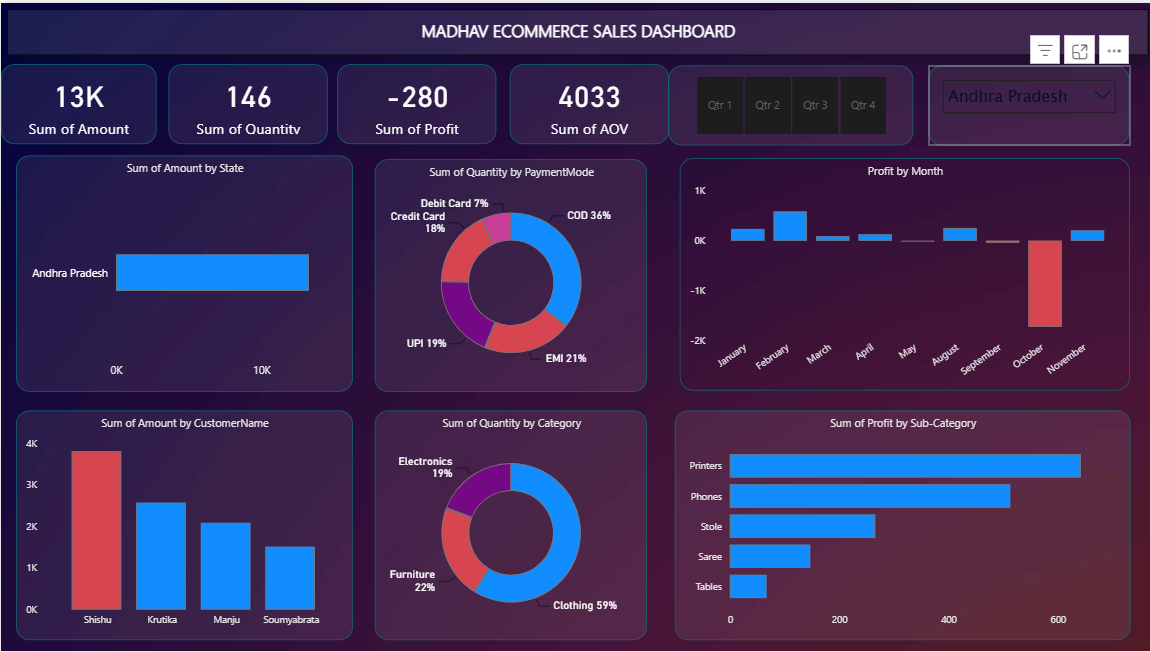

The page's visual inventory and layout, read from the dashboard file:
{"tool":"powerbi","page":{"name":"Page 1","canvas":[1280,720],"ordinal":0},"visuals":[{"type":"textbox","box":[7,7,1268,51],"z":0},{"type":"columnChart","title":"Profit by Month","fields":{"Category":["Orders.Order Date.Variation.Date Hierarchy.Month"],"Y":["Sum(Details.Profit)"]},"box":[754.3,172.8,500,258],"z":1000},{"type":"barChart","fields":{"Category":["Details.Sub-Category"],"Y":["Sum(Details.Profit)"]},"box":[748.1,453.1,506.2,255.6],"z":2000},{"type":"donutChart","fields":{"Category":["Details.Category"],"Y":["Sum(Details.Quantity)"]},"box":[414.9,452.7,302.7,255.4],"z":3000},{"type":"donutChart","fields":{"Y":["Sum(Details.Quantity)"],"Category":["Details.PaymentMode"]},"box":[414.9,173,302.7,258.1],"z":4000},{"type":"card","fields":{"Values":["Sum(Details.Amount)"]},"box":[0,68.6,172.9,88.6],"z":5000},{"type":"card","fields":{"Values":["Sum(Details.Quantity)"]},"box":[185.7,68.6,177.1,88.6],"z":6000},{"type":"card","fields":{"Values":["Sum(Details.Profit)"]},"box":[374.3,68.6,177.1,88.6],"z":7000},{"type":"card","fields":{"Values":["Sum(Details.AOV)"]},"box":[565.7,68.6,177.1,88.6],"z":8000},{"type":"barChart","fields":{"Category":["Orders.State"],"Y":["Sum(Details.Amount)"]},"box":[16.2,168.9,374.3,262.2],"z":9000},{"type":"columnChart","fields":{"Category":["Orders.CustomerName"],"Y":["Sum(Details.Amount)"]},"box":[16,453,374,255],"z":10000},{"type":"slicer","fields":{"Values":["Orders.Order Date.Variation.Date Hierarchy.Quarter"]},"box":[742,69.1,271.6,88.9],"z":10001},{"type":"slicer","fields":{"Values":["Orders.State"]},"box":[1030.9,69.1,223.5,88.9],"z":10002}]}

Visuals, with their boxes in screenshot pixels (x1, y1, x2, y2), scaled from the page's 1280x720 canvas onto the 1150x652 screenshot:
textbox: bbox=(6, 6, 1146, 53)
"Profit by Month" columnChart: bbox=(678, 156, 1127, 390)
barChart - Details.Sub-Category x Sum(Details.Profit): bbox=(672, 410, 1127, 642)
donutChart - Details.Category x Sum(Details.Quantity): bbox=(373, 410, 645, 641)
donutChart - Sum(Details.Quantity) x Details.PaymentMode: bbox=(373, 157, 645, 390)
card - Sum(Details.Amount): bbox=(0, 62, 155, 142)
card - Sum(Details.Quantity): bbox=(167, 62, 326, 142)
card - Sum(Details.Profit): bbox=(336, 62, 495, 142)
card - Sum(Details.AOV): bbox=(508, 62, 667, 142)
barChart - Orders.State x Sum(Details.Amount): bbox=(15, 153, 351, 390)
columnChart - Orders.CustomerName x Sum(Details.Amount): bbox=(14, 410, 350, 641)
slicer - Orders.Order Date.Variation.Date Hierarchy.Quarter: bbox=(667, 63, 911, 143)
slicer - Orders.State: bbox=(926, 63, 1127, 143)
